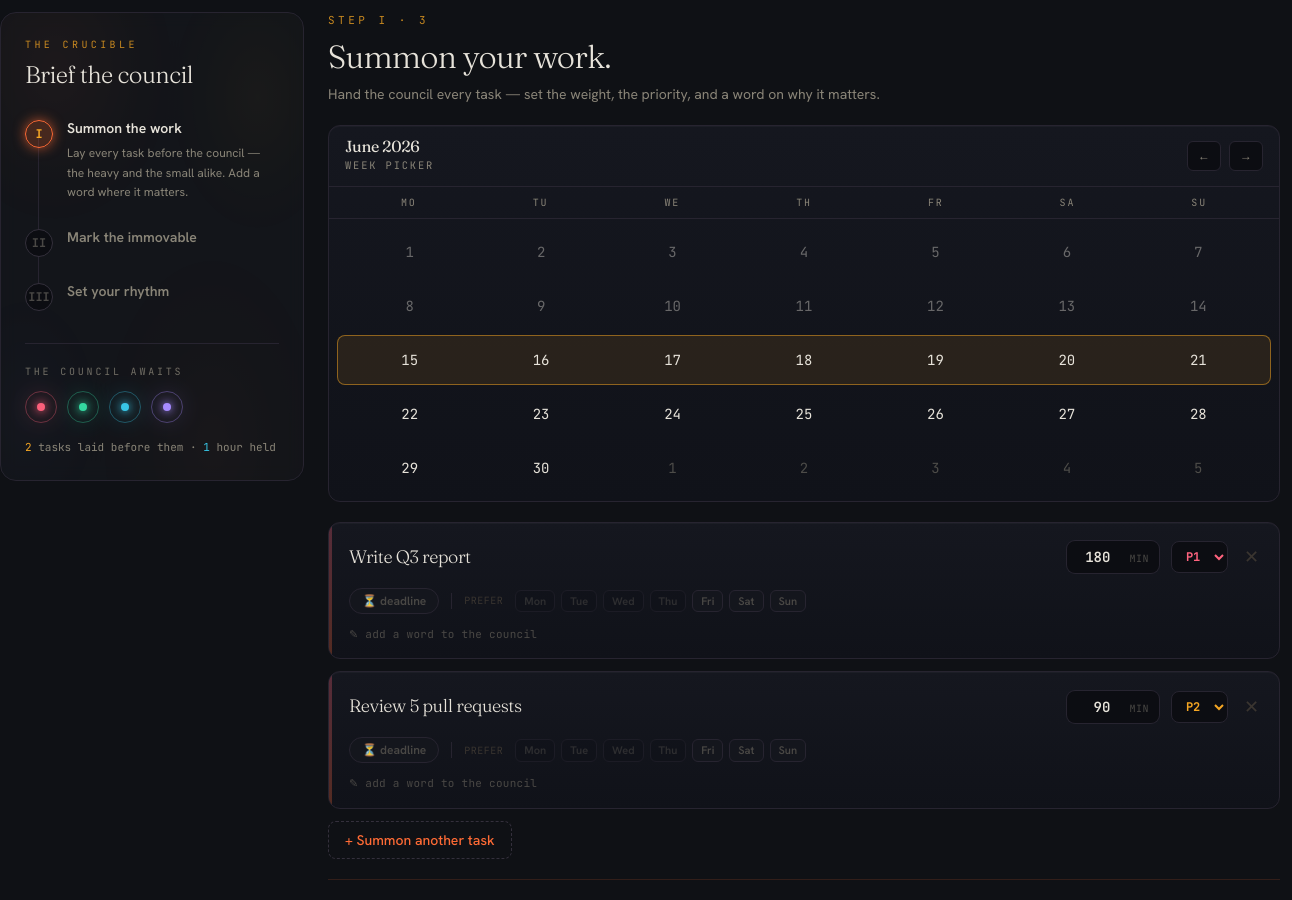
TaskForm › removes a task row when its remove button is clicked
Click the 1st button with test id "task-remove" at (1251, 557), box [1240,548,1263,566]
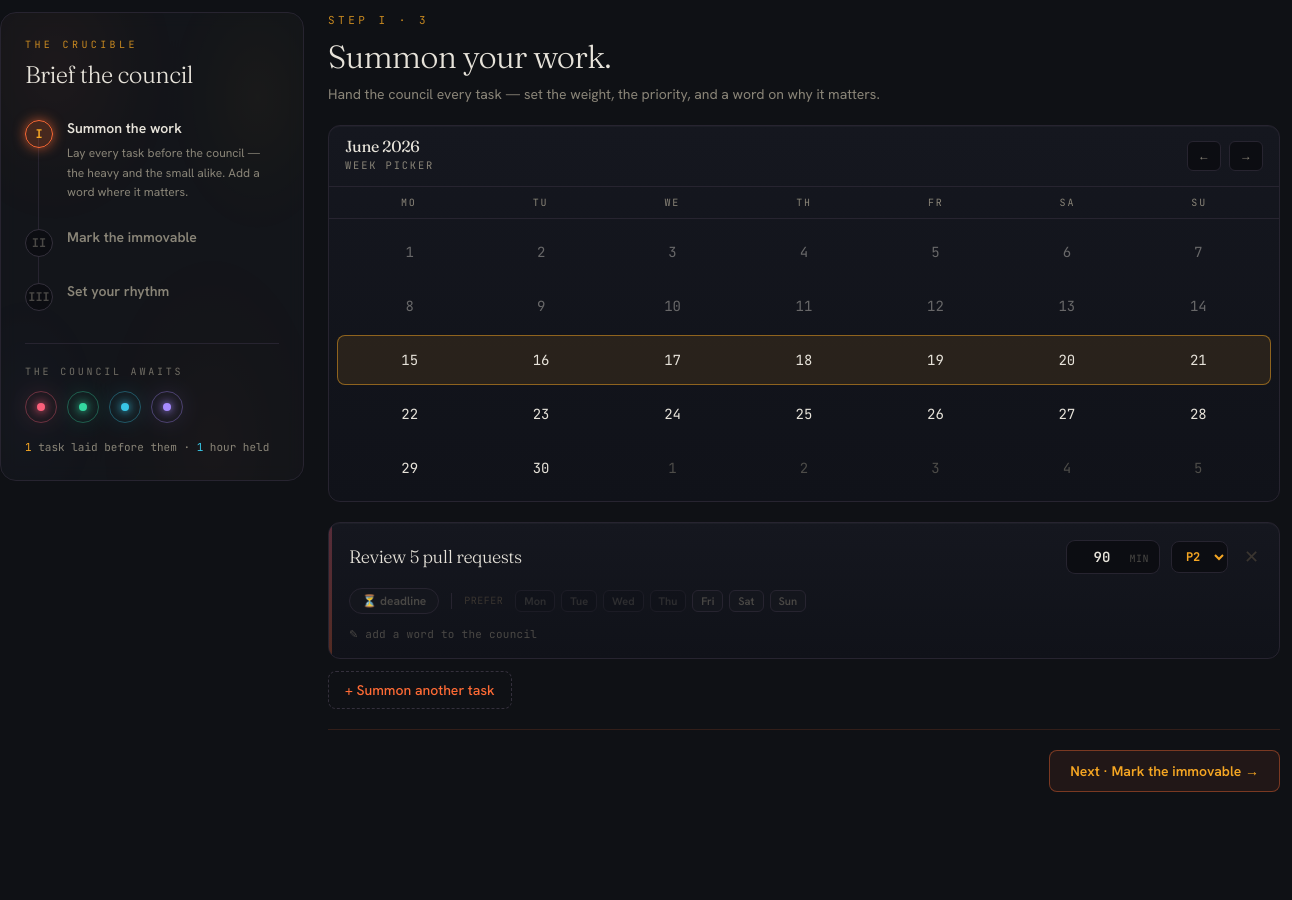
Now the number of elements with test id "task-row" is 1, box [328,522,1280,659]
